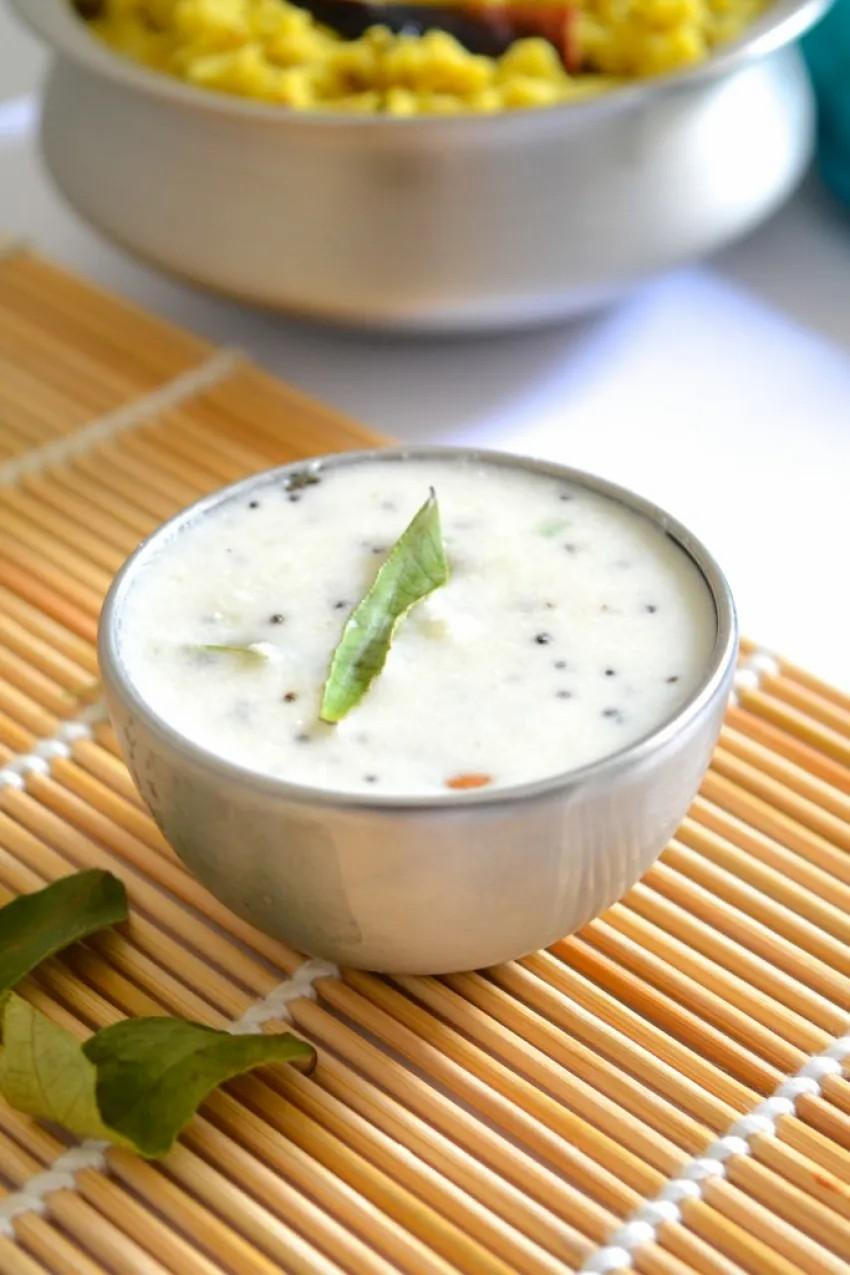CoconutChutney: (141, 459, 710, 788)
